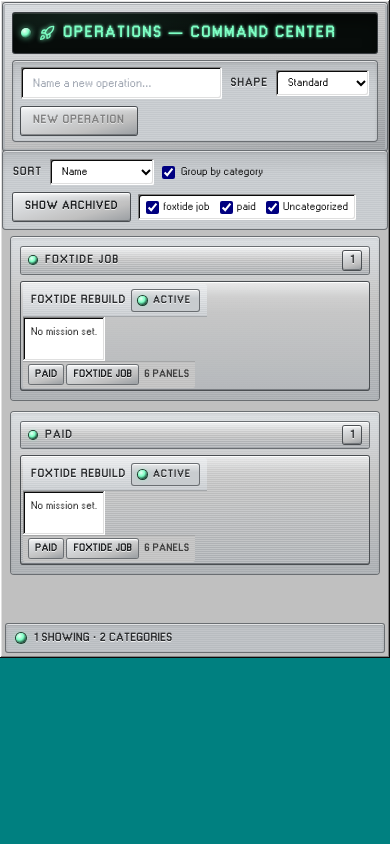
Test case: OperationsView › can switch grouping off for a flat sorted board
Click the checkbox labelled "Group by category": (168, 172) [162, 166, 175, 178]
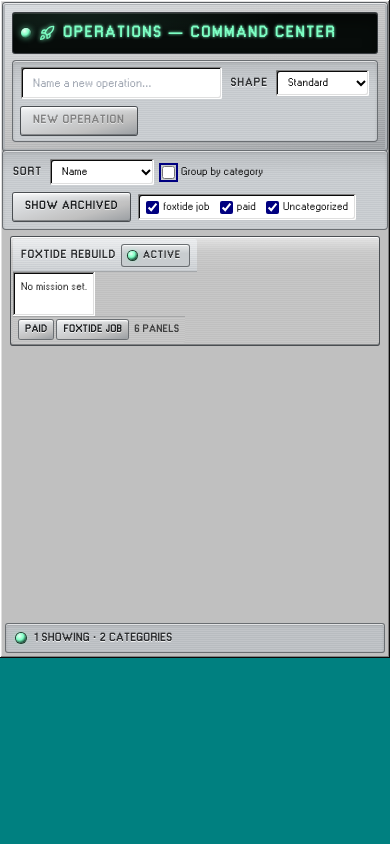
Expected: the heading "foxtide job 1" is gone
Expected: the number of buttons "Foxtide rebuild" is 1, [11, 237, 379, 345]
